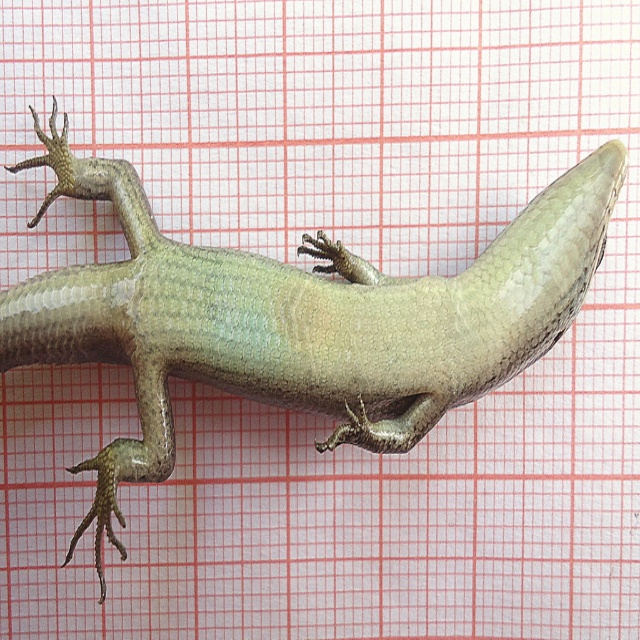Lizard: (8, 131, 636, 590)
